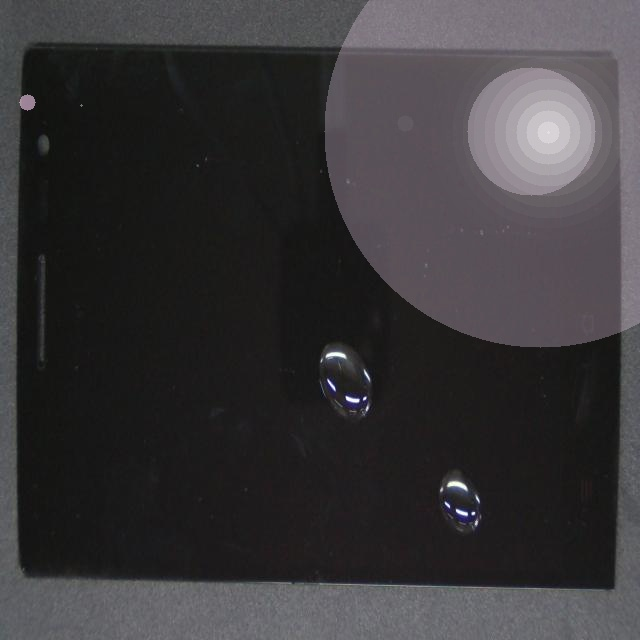oil: (241, 221, 640, 640), (211, 194, 538, 529)
